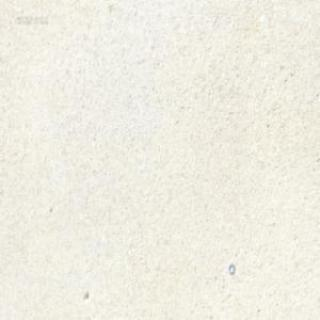Washertrack_idkeyframe: (227, 262, 234, 274)
